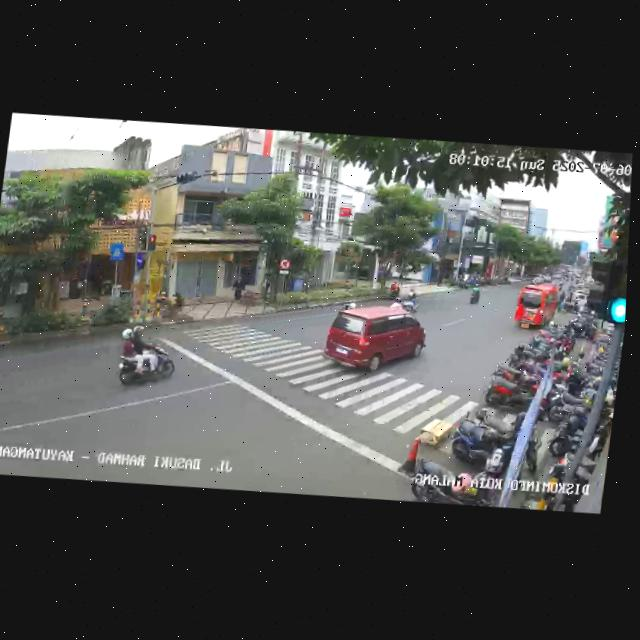car: (317, 301, 431, 380), (512, 281, 560, 333)
motorcycle: (112, 329, 180, 393), (400, 289, 421, 316), (466, 282, 482, 305)
